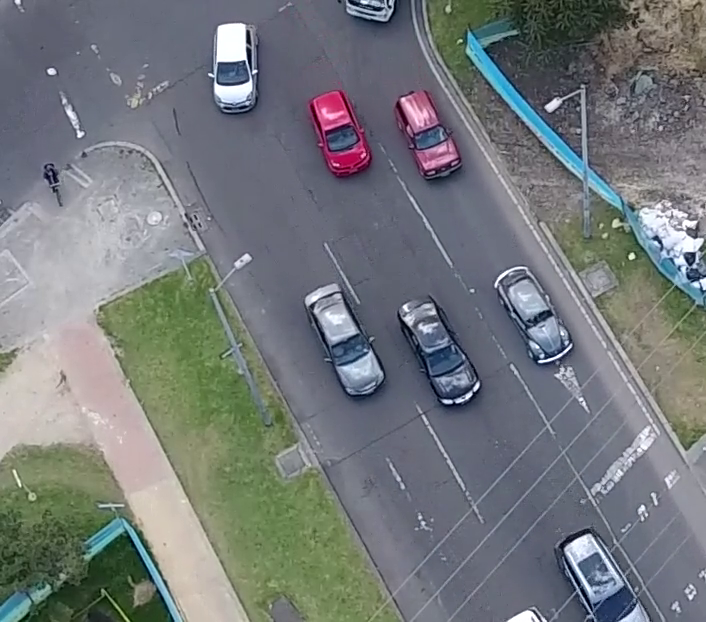car: (299, 282, 387, 403), (392, 292, 482, 410), (493, 261, 574, 367), (392, 84, 462, 183), (304, 84, 374, 179), (208, 15, 262, 115)
